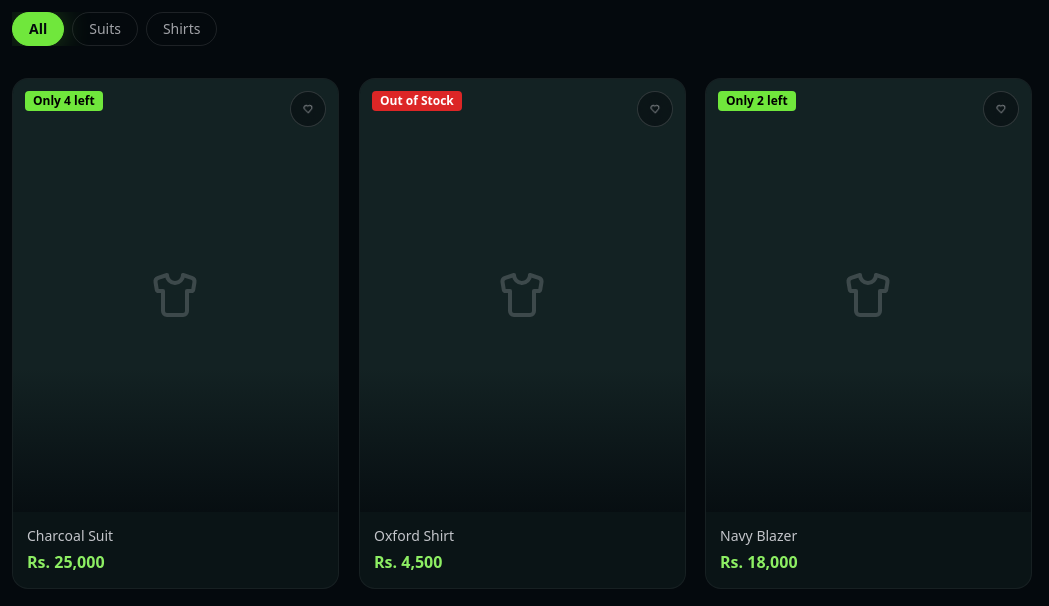
Test: ProductGrid › switches category when a pill is clicked
This screenshot has width=1049, height=606.
Click the button "Shirts".
click(182, 29)  # box left=146, top=12, right=217, bottom=46
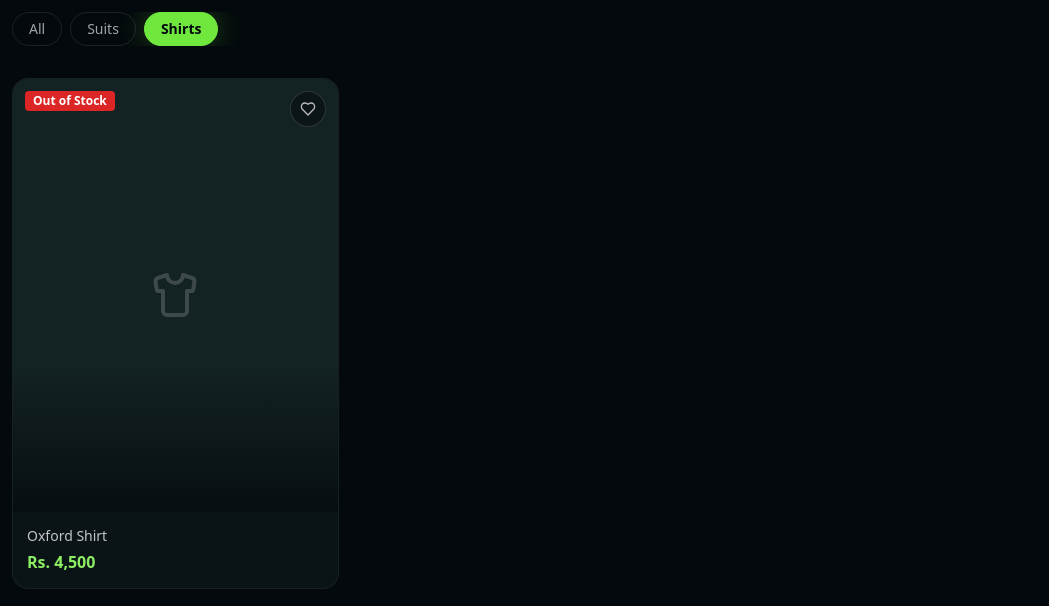
Expected: the text "Charcoal Suit" is not shown
Now the text "Oxford Shirt" is shown, box left=27, top=526, right=107, bottom=545
